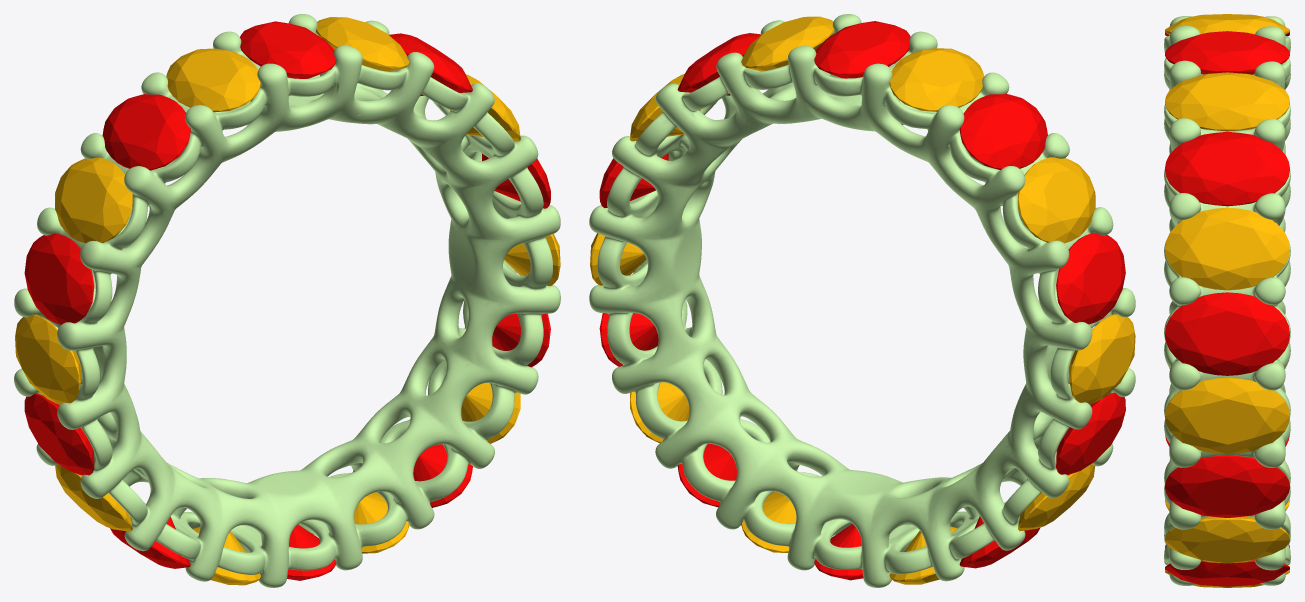
File: TCC-RN-CR-32199-Oval-Eternity-30.glb
3 renders of one model, left to right at view 1: azimuth 30°, elevation 25°; view 2: azimuth 150°, elevation 25°; view 3: azimuth 270°, elevation 25°, orthographic.
Parts seen in each view (by area): view 1: Metal03, Diamond Band02.009, Diamond Band01.008, Diamond Band01.007, Diamond Band02, Diamond Band02.008, Diamond Band01.009, Diamond Band01.006, Diamond Band02.001, Diamond Band02.007, Diamond Band01, Diamond Band02.004 (+9 smaller); view 2: Metal03, Diamond Band02.009, Diamond Band01.008, Diamond Band01.007, Diamond Band02, Diamond Band02.008, Diamond Band01.009, Diamond Band01.006, Diamond Band02.001, Diamond Band02.007, Diamond Band01, Diamond Band02.004 (+9 smaller); view 3: Metal03, Diamond Band01.001, Diamond Band02.002, Diamond Band02.003, Diamond Band01, Diamond Band01.002, Diamond Band02.001, Diamond Band02.004, Diamond Band01.009, Diamond Band01.003, Diamond Band02, Diamond Band02.005.
Boxes of the visible parts, x1=… form: Metal03: x1=14, y1=14, x2=560, y2=587; Diamond Band02.009: x1=55, y1=157, x2=132, y2=243; Diamond Band01.008: x1=102, y1=94, x2=190, y2=170; Diamond Band01.007: x1=24, y1=233, x2=94, y2=324; Diamond Band02: x1=166, y1=48, x2=260, y2=112; Diamond Band02.008: x1=15, y1=314, x2=81, y2=404; Diamond Band01.009: x1=240, y1=21, x2=336, y2=78; Diamond Band01.006: x1=24, y1=393, x2=94, y2=475; Diamond Band02.001: x1=316, y1=17, x2=409, y2=71; Diamond Band02.007: x1=55, y1=464, x2=132, y2=531; Diamond Band01: x1=389, y1=33, x2=472, y2=96; Diamond Band02.004: x1=461, y1=383, x2=520, y2=443; Metal03: x1=589, y1=14, x2=1135, y2=587; Diamond Band02.009: x1=1018, y1=157, x2=1095, y2=243; Diamond Band01.008: x1=959, y1=93, x2=1047, y2=169; Diamond Band01.007: x1=1056, y1=233, x2=1125, y2=324; Diamond Band02: x1=889, y1=48, x2=984, y2=111; Diamond Band02.008: x1=1069, y1=314, x2=1135, y2=404; Diamond Band01.009: x1=814, y1=21, x2=910, y2=78; Diamond Band01.006: x1=1056, y1=392, x2=1125, y2=474; Diamond Band02.001: x1=741, y1=16, x2=834, y2=71; Diamond Band02.007: x1=1018, y1=463, x2=1095, y2=530; Diamond Band01: x1=677, y1=33, x2=760, y2=95; Diamond Band02.004: x1=630, y1=382, x2=689, y2=442; Metal03: x1=1164, y1=16, x2=1290, y2=585; Diamond Band01.001: x1=1165, y1=292, x2=1289, y2=375; Diamond Band02.002: x1=1165, y1=207, x2=1289, y2=290; Diamond Band02.003: x1=1165, y1=377, x2=1289, y2=454; Diamond Band01: x1=1165, y1=131, x2=1289, y2=206; Diamond Band01.002: x1=1165, y1=455, x2=1289, y2=517; Diamond Band02.001: x1=1165, y1=72, x2=1289, y2=131; Diamond Band02.004: x1=1165, y1=516, x2=1289, y2=563; Diamond Band01.009: x1=1165, y1=31, x2=1289, y2=74; Diamond Band01.003: x1=1165, y1=560, x2=1289, y2=586; Diamond Band02: x1=1165, y1=14, x2=1289, y2=34; Diamond Band02.005: x1=1165, y1=569, x2=1289, y2=587.
Bounding box in the file's own units: 24.91 × 24.91 × 5.52.
